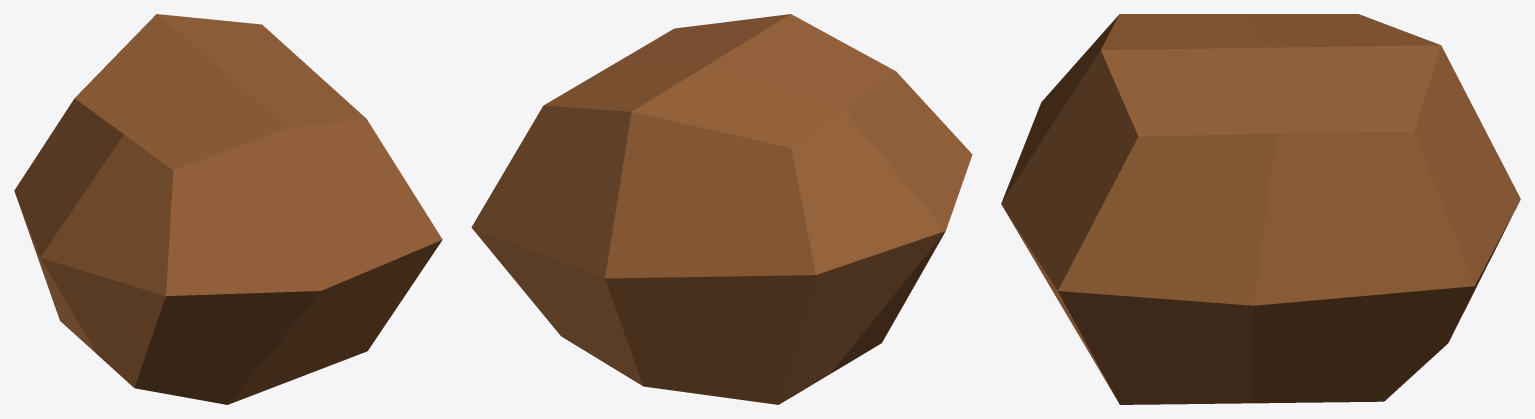
The model's file is Copper_FBX.fbx.
The picture shows the model from 3 angles, left to right: view 1: azimuth 30°, elevation 25°; view 2: azimuth 150°, elevation 25°; view 3: azimuth 270°, elevation 25°; orthographic projection. The views are drawn at different scales.
Visible parts, largest first — view 1: Cube; view 2: Cube; view 3: Cube.
Boxes of the visible parts, x1,y1,x2,y2 form: Cube: (14, 14, 442, 404); Cube: (471, 14, 972, 404); Cube: (1001, 14, 1520, 404).
Size of the model in its own units: 370 by 264 by 376.
